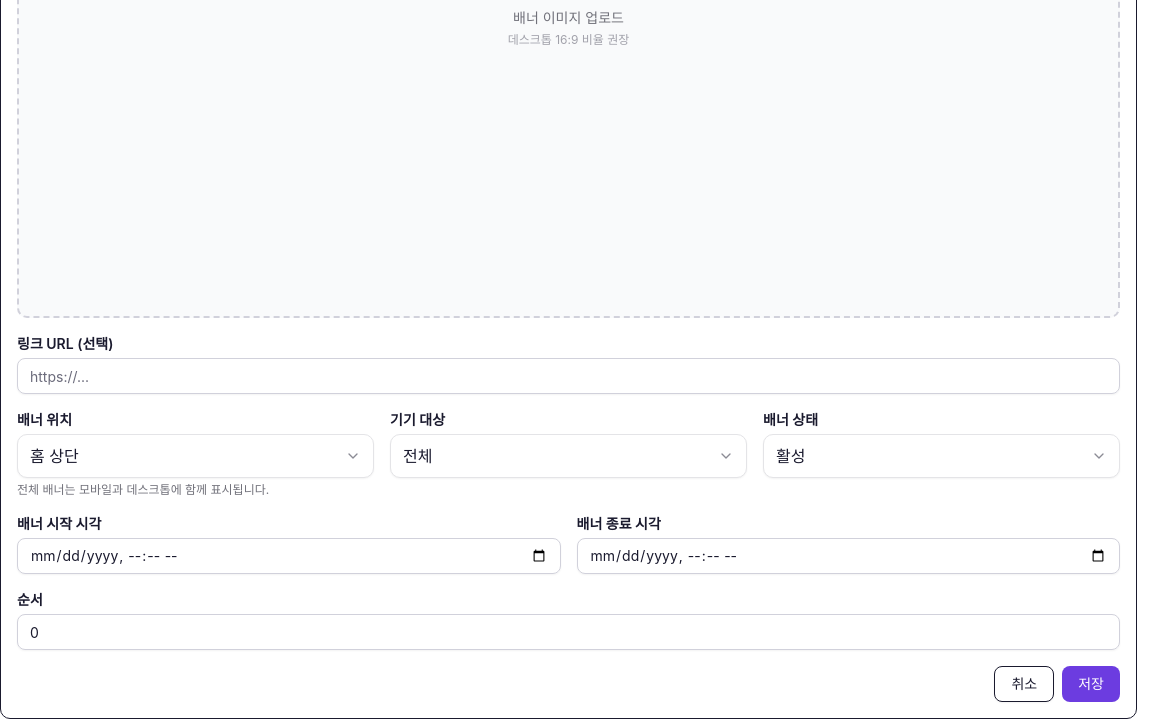
Test: BannerForm › shows mobile banner size guidance for mobile targets
(page scrolled)
Click the dropdown named "기기 대상": (418, 456) [390, 434, 747, 478]
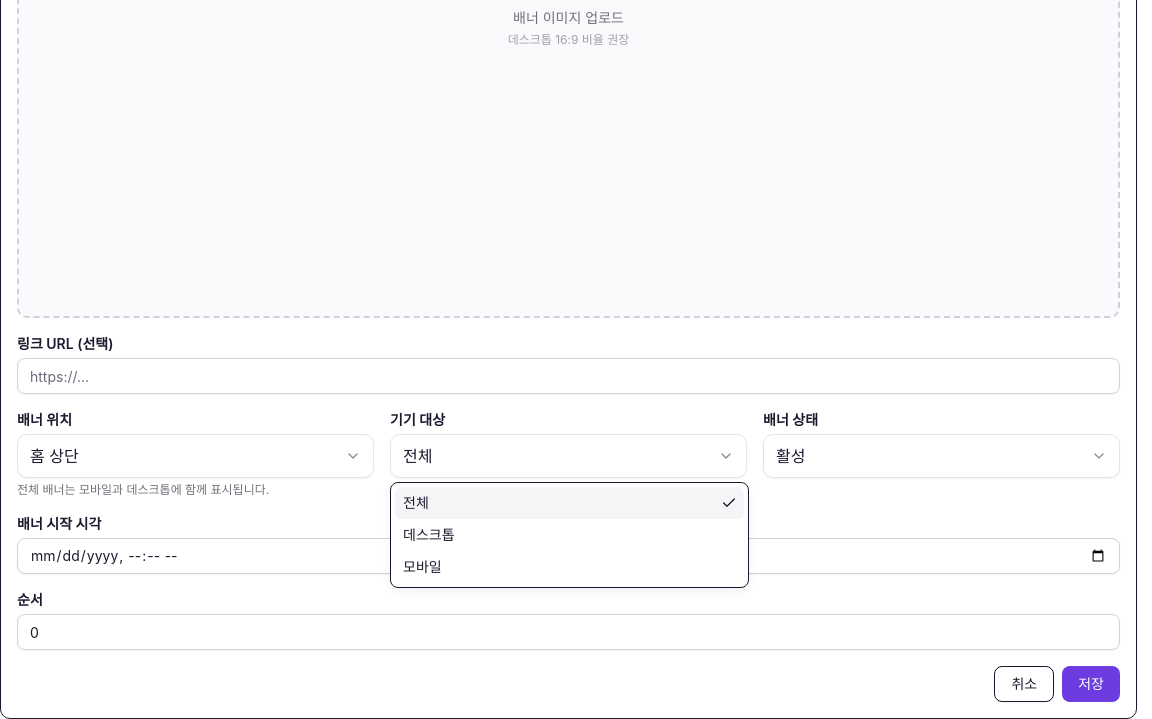
Click the option "모바일": (422, 566) [403, 558, 442, 575]
(page scrolled)
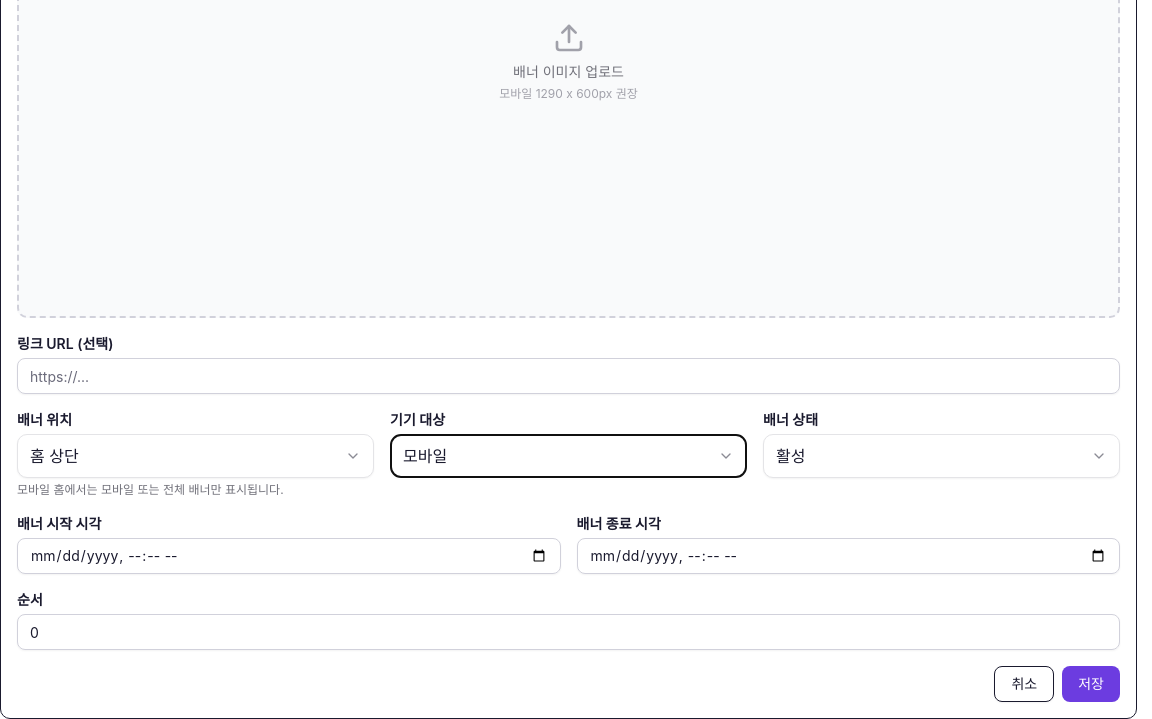
Expected: the text "모바일 1290 x 600px 권장" is shown, [499, 86, 638, 102]
Expected: the text "모바일 홈에서는 모바일 또는 전체 배너만 표시됩니다." is shown, [17, 482, 284, 497]
